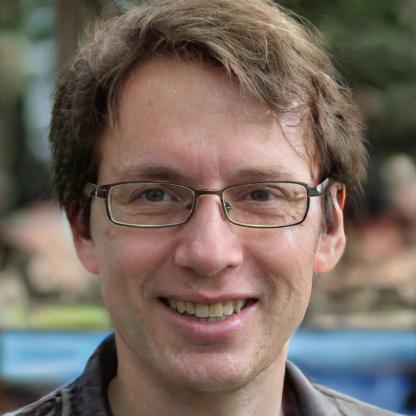glasses: (92, 175, 326, 234)
